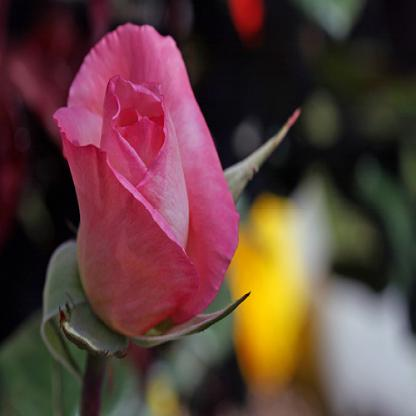ROSE-MAWAR: (32, 22, 269, 332)
